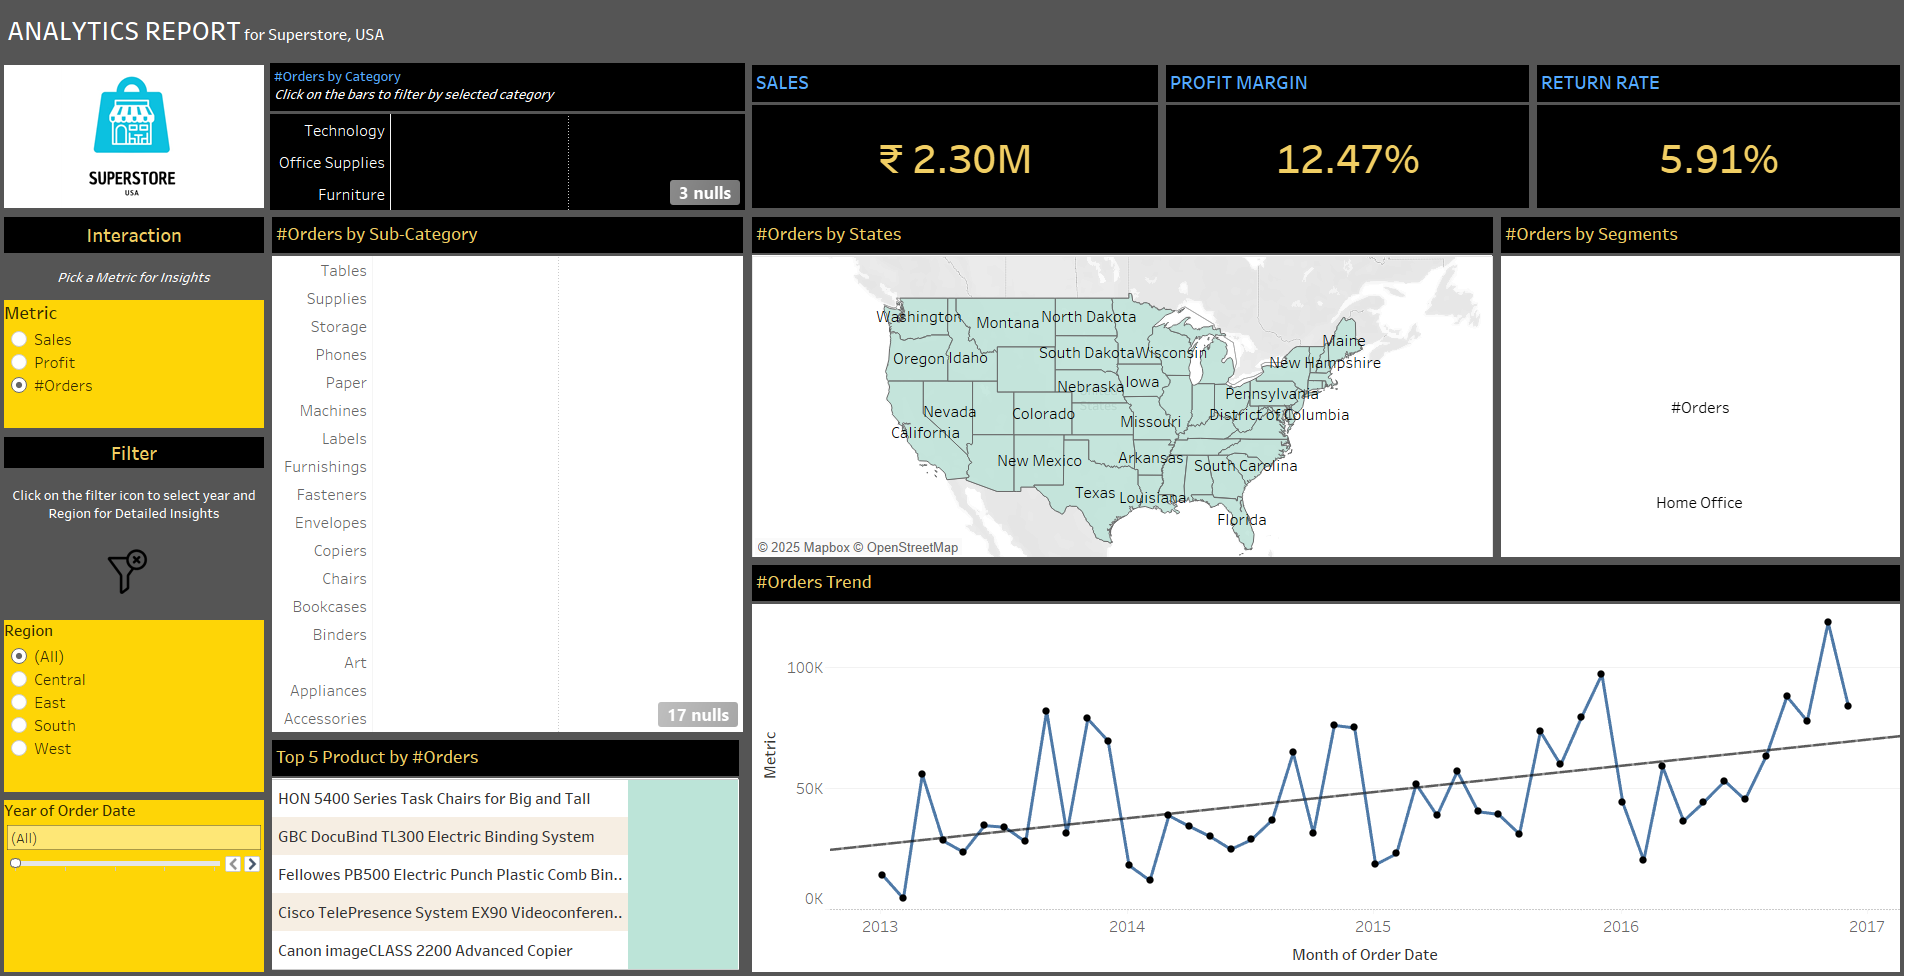

The dashboard page shown, as its layout file describes it:
{"tool":"tableau","page":{"name":"A 7 Dashboard ","canvas":[1000,1000],"units":"permille","ordinal":1},"visuals":[{"type":"text","box":[4.8,9.9,990.3,62.4]},{"type":"image","param":"Image/logo.png","box":[4.8,72.3,139.6,151.9]},{"type":"worksheet","title":"Category","mark":"Automatic","rows":["Category"],"cols":["Calculation_154248330098601988"],"box":[144.4,72.3,249.2,151.9]},{"type":"worksheet","title":"Total-sales","mark":"Text","box":[393.7,72.3,215.6,151.9]},{"type":"worksheet","title":"profit-margin","mark":"Automatic","box":[609.2,72.3,192.9,151.9]},{"type":"worksheet","title":"Return rate","mark":"Automatic","box":[802.1,72.3,193,151.9]},{"type":"text","box":[4.8,224.2,139.5,44.6]},{"type":"worksheet","title":"Sub-Category","mark":"Automatic","rows":["Sub-Category"],"box":[144.4,224.2,249.3,525.2]},{"type":"worksheet","title":"A 7 Map","mark":"Automatic","box":[393.7,224.2,389.8,349.7]},{"type":"worksheet","title":"A 7 Donat","mark":"Pie","rows":["Calculation_154248330088869888","Calculation_154248330088869888"],"box":[783.5,224.2,211.7,349.7]},{"type":"text","box":[4.8,268.8,139.5,39.5]},{"type":"parameter","param":"[Parameters].[Parameter 2]","box":[4.8,308.2,139.5,136.9]},{"type":"text","box":[4.8,445.1,139.5,39.5]},{"type":"text","box":[4.8,484.6,139.5,64.1]},{"type":"dashboard-object","box":[38.6,546.2,67.6,86.3]},{"type":"worksheet","title":"A 7 linechart","mark":"Line","rows":["Sales","Sales"],"cols":["Order Date"],"box":[393.7,573.9,601.5,416.2]},{"type":"filter","title":"A 7 Map","param":"[federated.1at3x561rd9ihd185l8m20e6tf73].[none:Region:nk]","box":[4.8,628.9,139.2,181.3]},{"type":"worksheet","title":"Top 5 product","mark":"Square","rows":["Product Name"],"box":[144.4,749.4,249.3,240.8]},{"type":"filter","title":"A 7 Map","param":"[federated.1at3x561rd9ihd185l8m20e6tf73].[none:Calculation_405042535065518084:ok","box":[4.8,810.1,139.2,180]}]}

Visuals, with their boxes on the dashboard's canvas, which has no fixed pixel size, in thousandths of its width and height (x1, y1, x2, y2). These are canvas units, not pixel positions in the 1912x978 screenshot, which may show the page scaled, cropped or inside an application window:
text: bbox(5, 10, 995, 72)
image: bbox(5, 72, 144, 224)
"Category" worksheet: bbox(144, 72, 394, 224)
"Total-sales" worksheet (Text marks): bbox(394, 72, 609, 224)
"profit-margin" worksheet: bbox(609, 72, 802, 224)
"Return rate" worksheet: bbox(802, 72, 995, 224)
text: bbox(5, 224, 144, 269)
"Sub-Category" worksheet: bbox(144, 224, 394, 749)
"A 7 Map" worksheet: bbox(394, 224, 784, 574)
"A 7 Donat" worksheet (Pie marks): bbox(784, 224, 995, 574)
text: bbox(5, 269, 144, 308)
parameter: bbox(5, 308, 144, 445)
text: bbox(5, 445, 144, 485)
text: bbox(5, 485, 144, 549)
dashboard-object: bbox(39, 546, 106, 632)
"A 7 linechart" worksheet (Line marks): bbox(394, 574, 995, 990)
"A 7 Map" filter: bbox(5, 629, 144, 810)
"Top 5 product" worksheet (Square marks): bbox(144, 749, 394, 990)
"A 7 Map" filter: bbox(5, 810, 144, 990)
